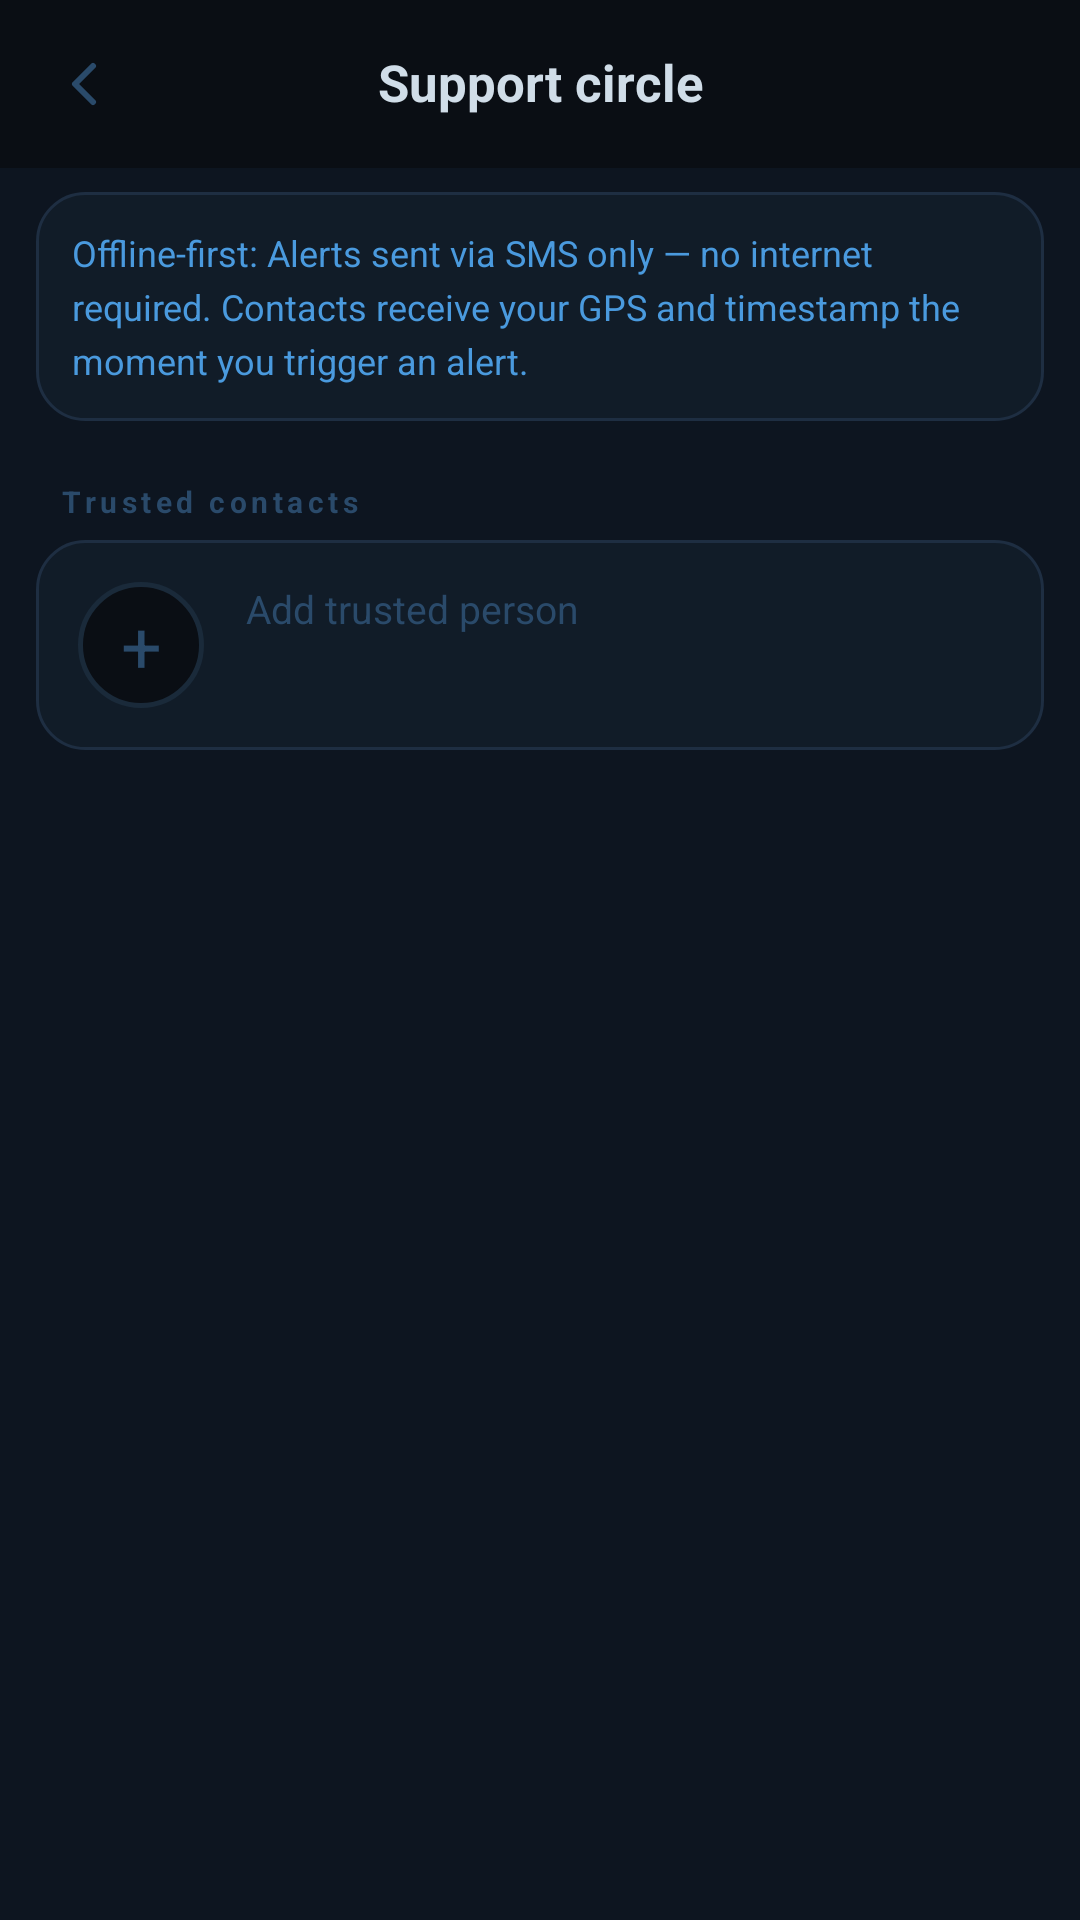

Where icons sit on this 1080px x 1920px app screen, as [x1,y1,x2,y2]:
Back: [72,63,96,105]
